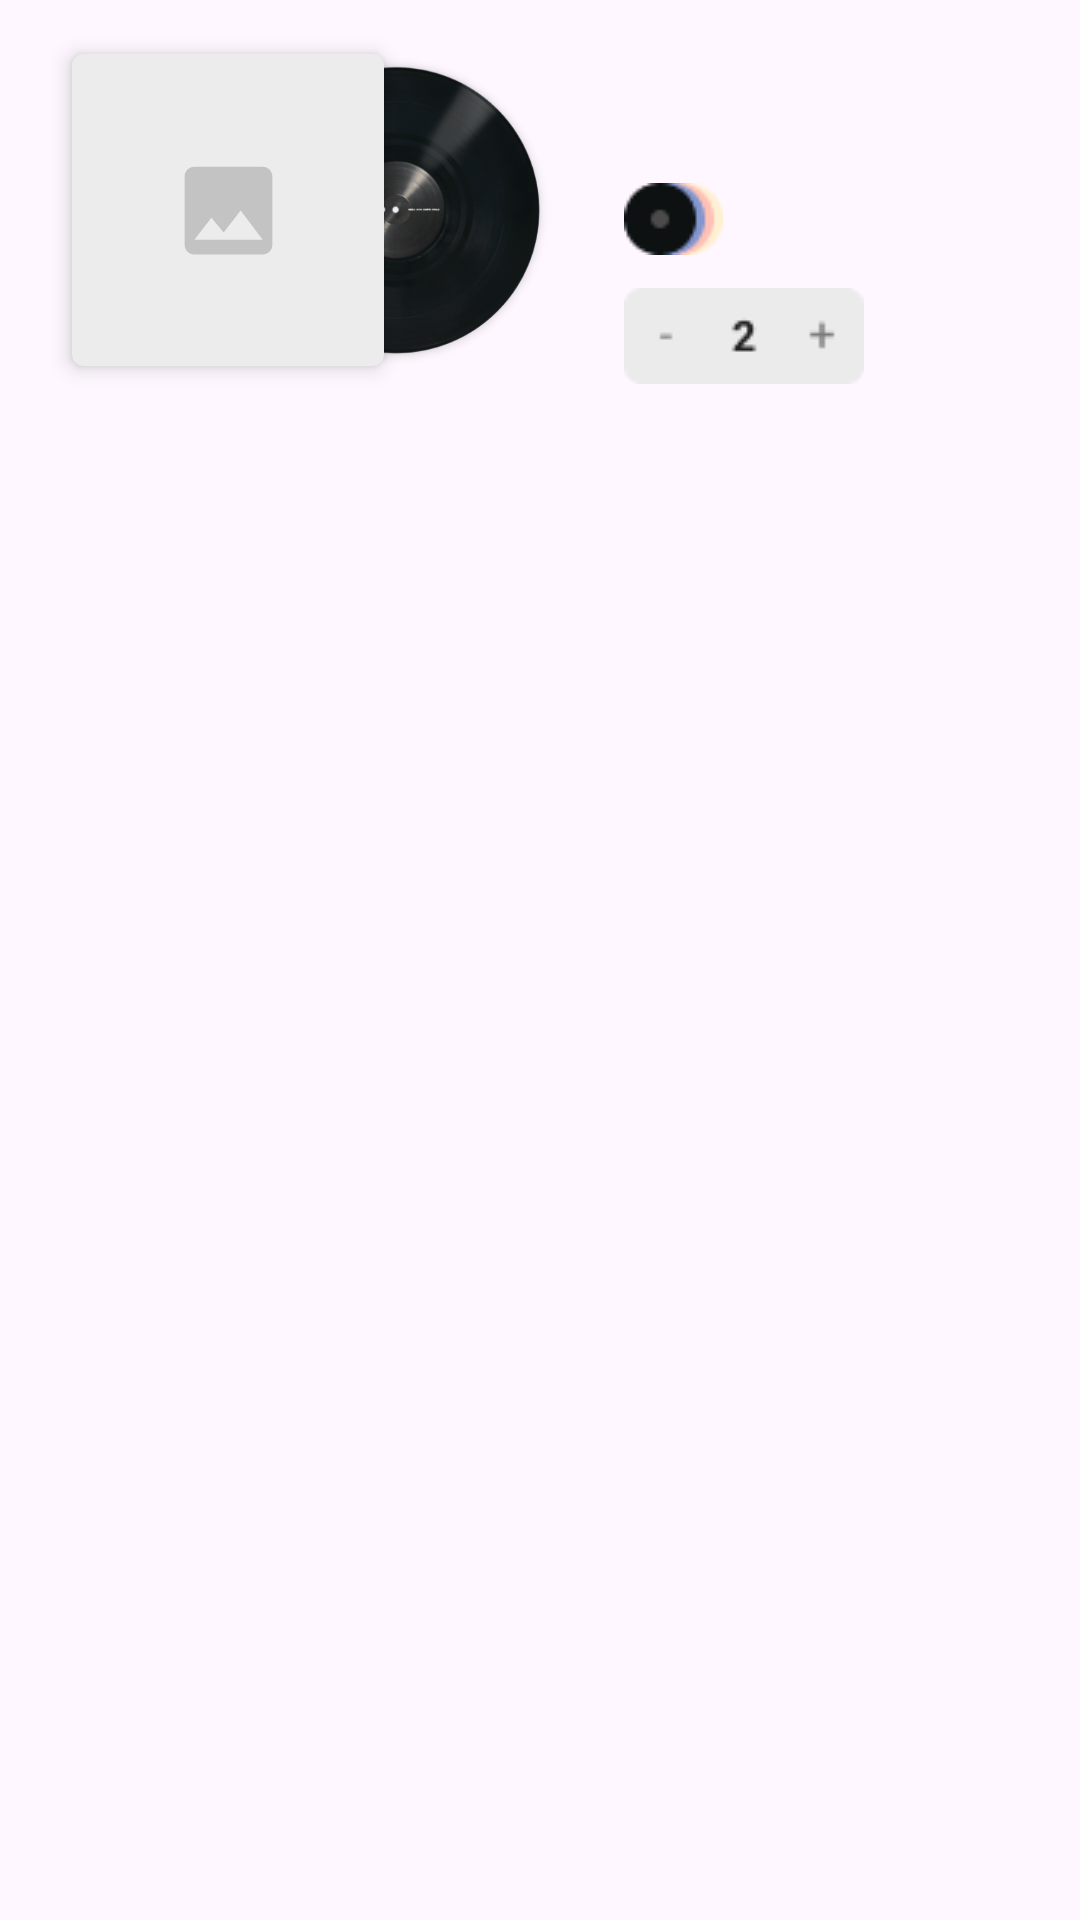

Locate icon controls on the screen. Image size 1080px×1920px, boxes as region(x1, y1, x2, y2).
vinyl: region(382, 61, 540, 361)
